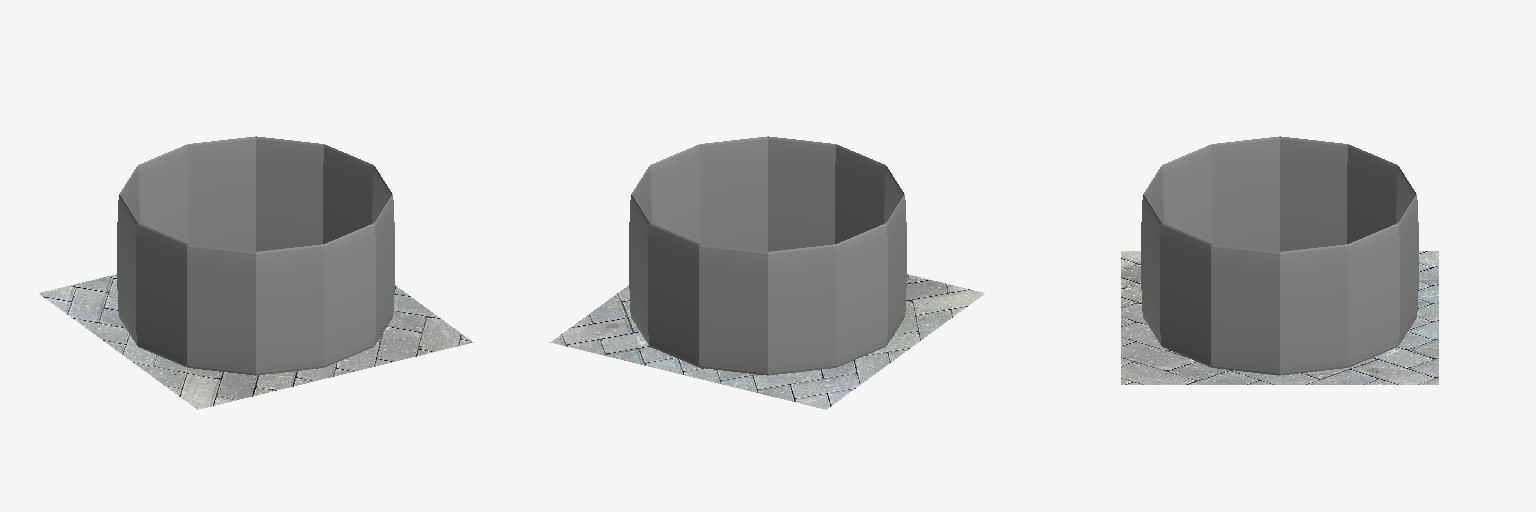
The picture shows the model from 3 angles: view 1: azimuth 30°, elevation 25°; view 2: azimuth 150°, elevation 25°; view 3: azimuth 270°, elevation 25°; orthographic projection.
Parts seen in each view (by area): view 1: Torus, Plane1; view 2: Torus, Plane1; view 3: Torus, Plane1.
Boxes of the visible parts, x1,y1,x2,y2 form: Torus: [117, 136, 394, 375]; Plane1: [39, 274, 473, 409]; Torus: [629, 136, 906, 375]; Plane1: [550, 274, 984, 409]; Torus: [1141, 136, 1418, 375]; Plane1: [1121, 251, 1438, 384].
Size of the model in its own units: 14 by 6 by 14.
Materials: 4 (3 with a texture image).